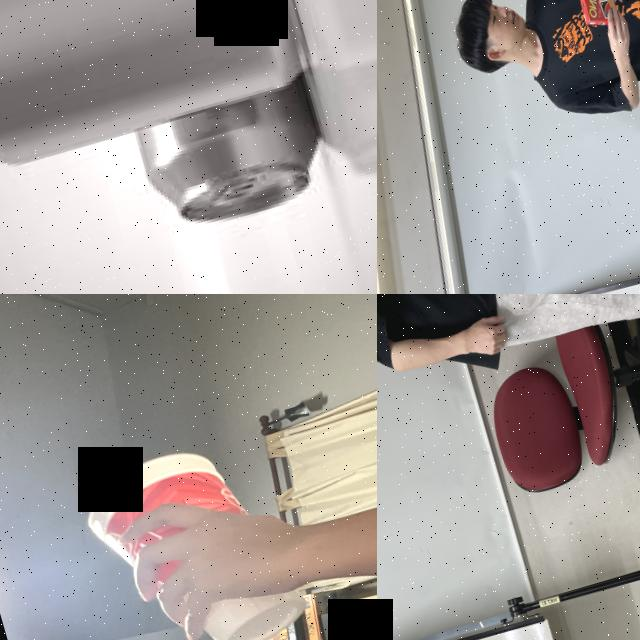can: (69, 0, 338, 245), (0, 0, 320, 185)
cup: (74, 425, 315, 640)
